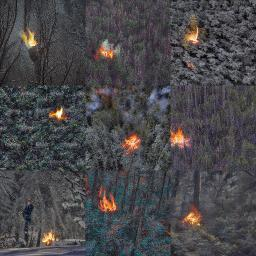Small fire: (174, 8, 205, 78), (8, 19, 53, 59), (90, 175, 126, 220), (174, 200, 217, 236), (168, 124, 206, 155), (87, 36, 127, 65), (118, 127, 147, 161), (36, 226, 73, 252), (43, 99, 78, 125)
